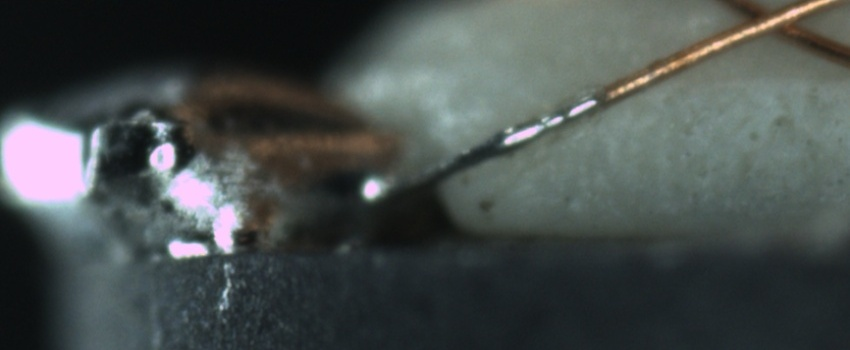CL: (711, 2, 827, 45)
DL: (612, 63, 850, 103)
TS: (372, 89, 603, 208)
TTCW: (368, 61, 658, 206)
